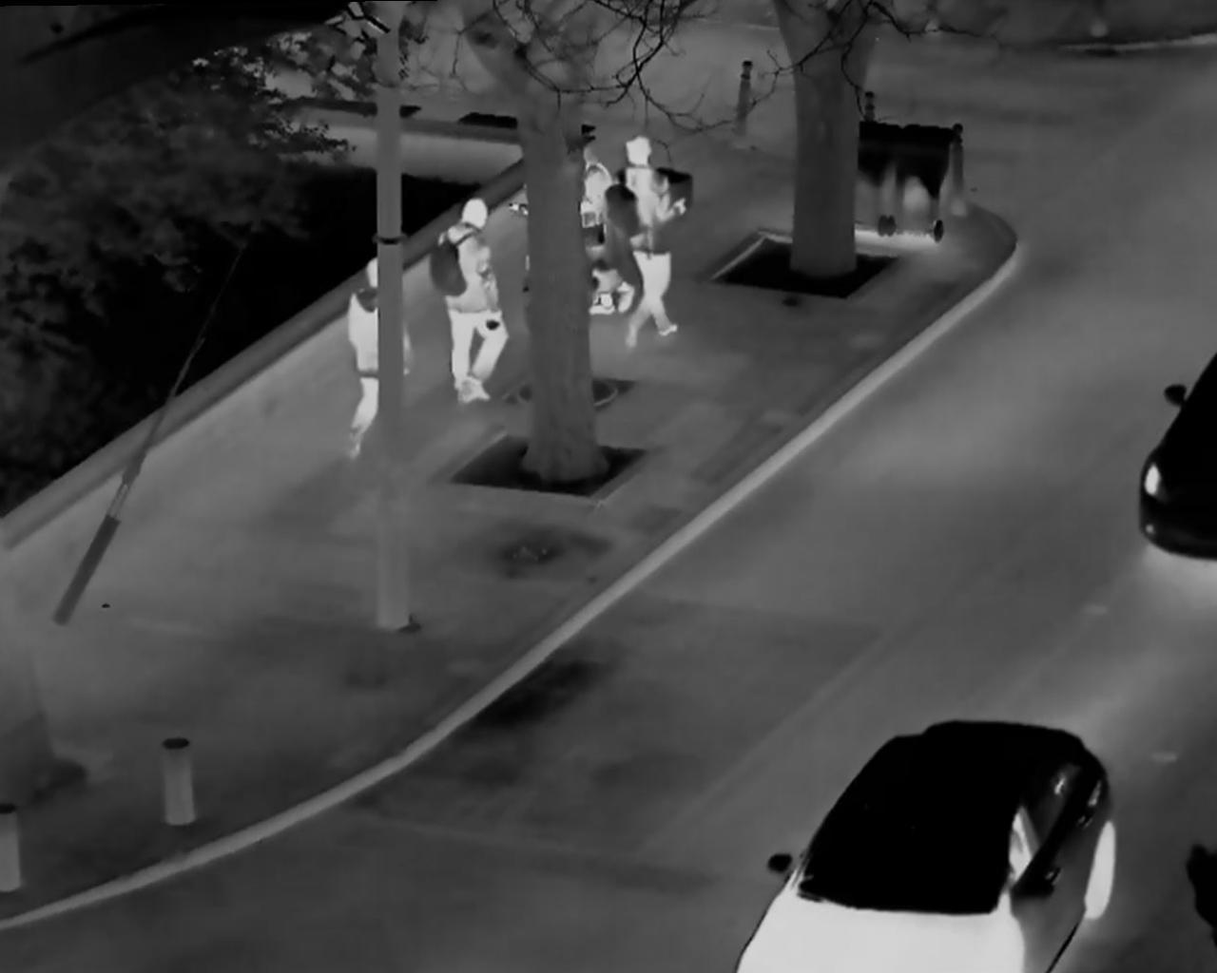person: (607, 126, 704, 362), (432, 187, 508, 431), (334, 242, 416, 459), (573, 143, 634, 319)
